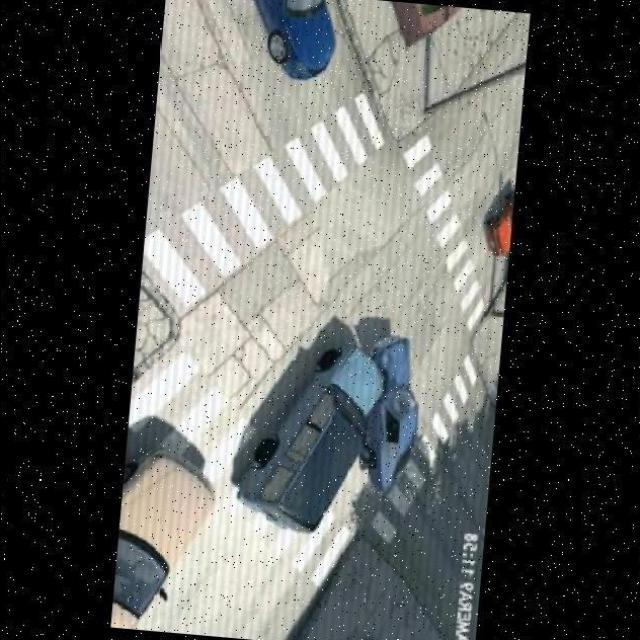accident: (250, 315, 429, 519)
